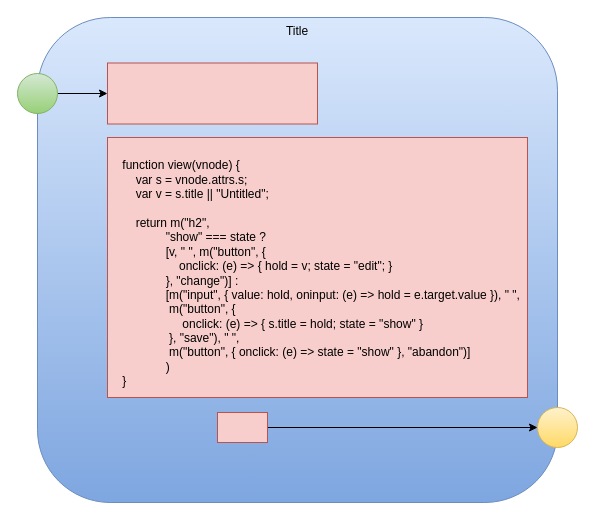
Image size: 595x520. Some labels were removed from this diagram. Here are the shapes that lost their labels. From the top down, the box of each, then its label:
(106, 62, 318, 124): state = "show"; // show | edit hold = "Untitled";
(216, 412, 268, 442): { view }
